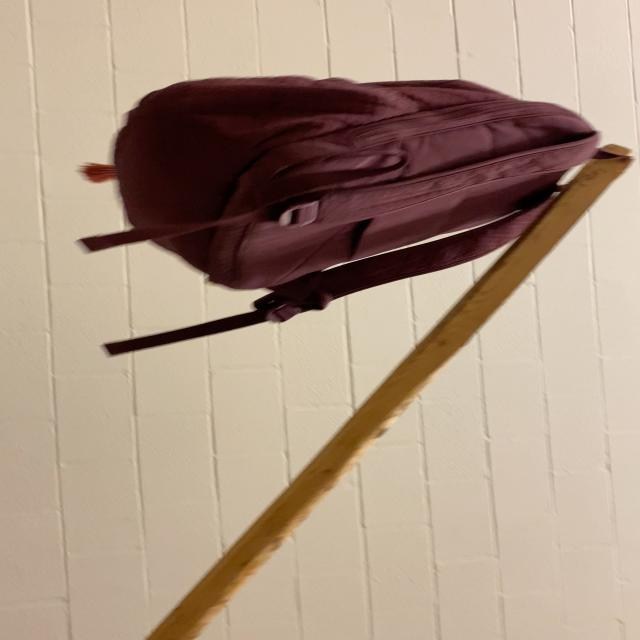Backpacks: (110, 76, 591, 294)
